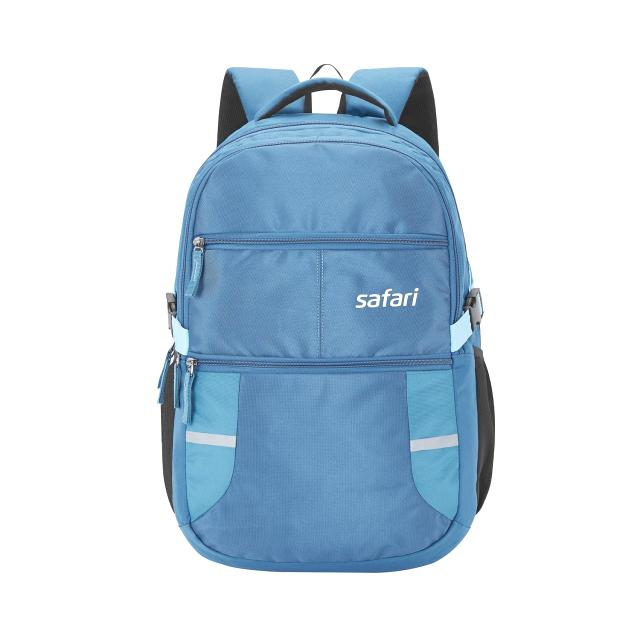backpack: (158, 64, 497, 574)
